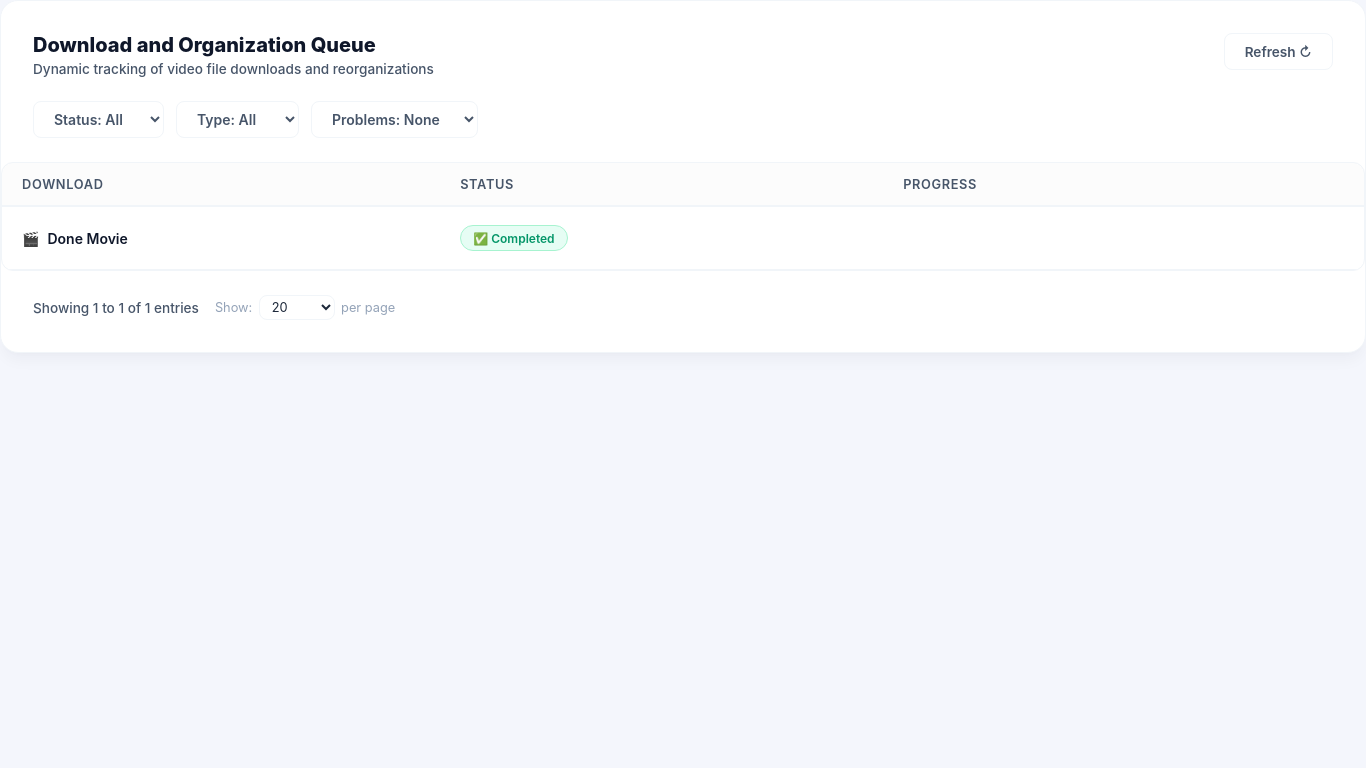
DownloadsTab sidepanel › shows Move/Rename/Resync actions in the drawer for a completed download
This screenshot has width=1366, height=768.
Click the text "🎬Done Movie" at coordinates (221, 239), box [2, 207, 440, 270]
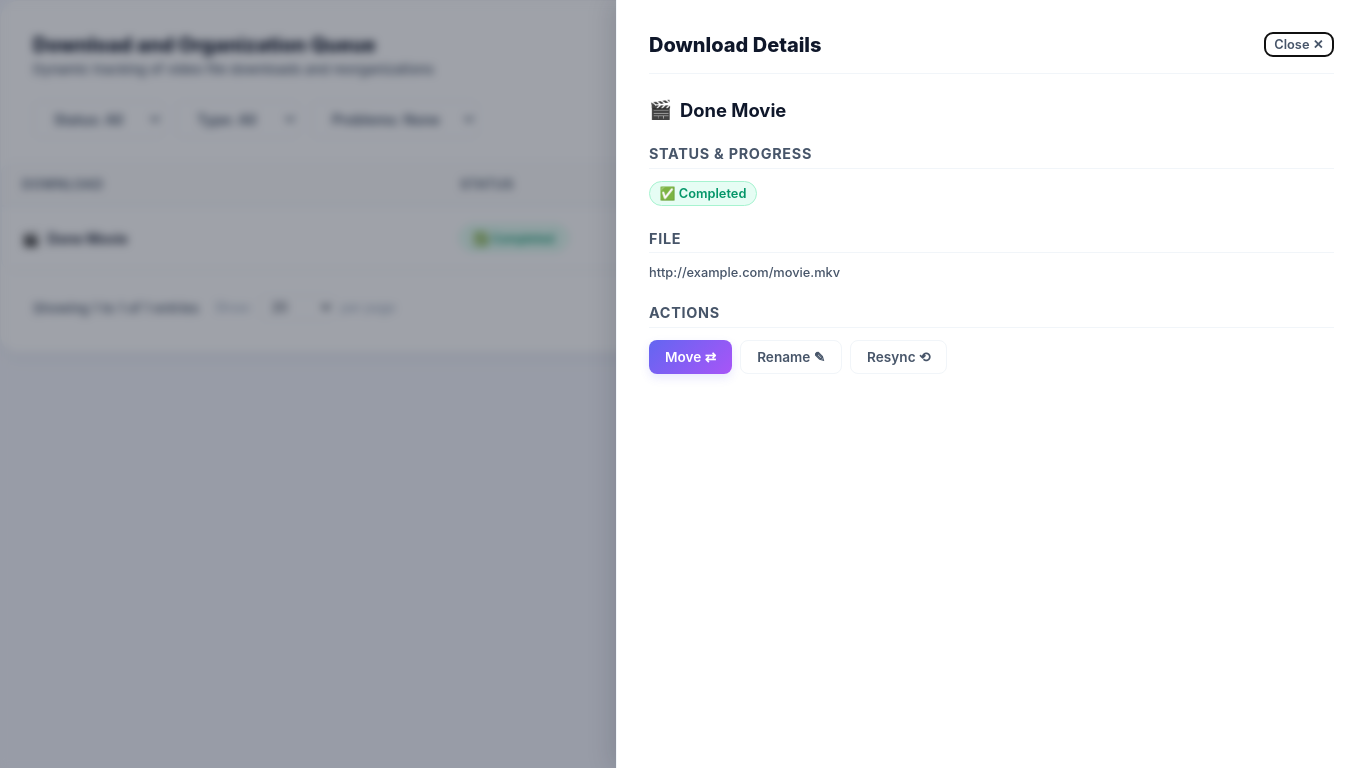
Check: the button "Move ⇄" is shown, box [649, 340, 732, 374]
Check: the button "Rename ✎" is shown, box [740, 340, 842, 374]
Check: the button "Resync ⟲" is shown, box [850, 340, 947, 374]
